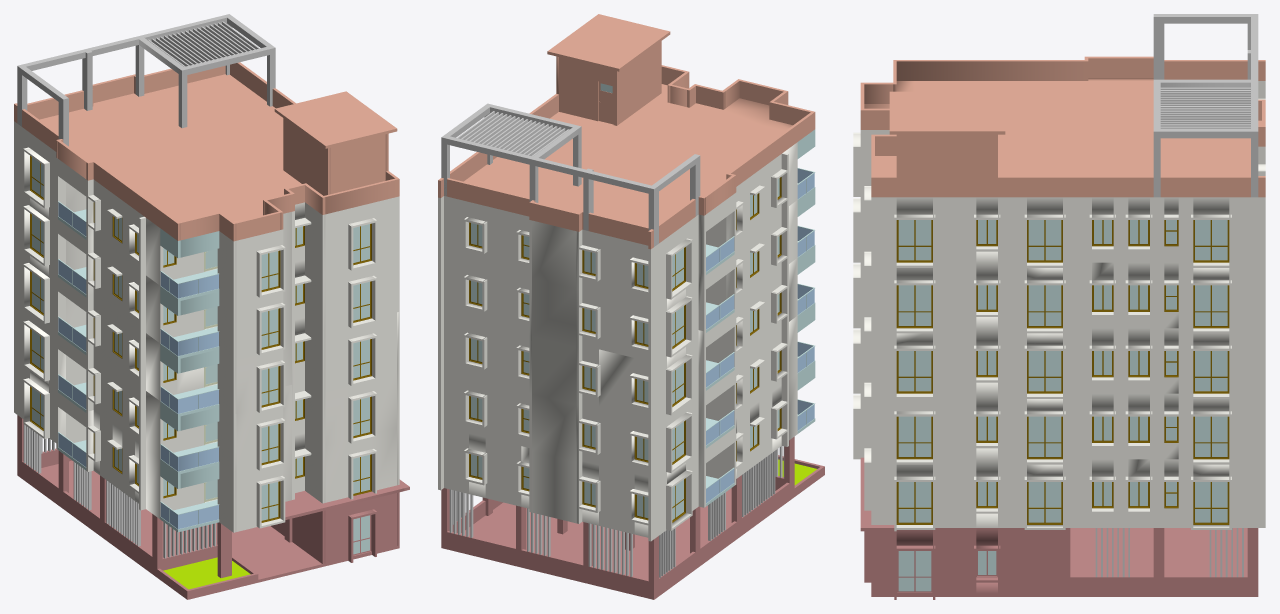
File: edificio-01.glb
3 views of the same model, side by side, from view 1: azimuth 30°, elevation 25°; view 2: azimuth 150°, elevation 25°; view 3: azimuth 270°, elevation 25° (orthographic). The views are drawn at different scales.
Visible parts, largest first — view 1: WALL, ROOF_1, GROUND_FLOOR_1_primitive0, WINDOW_primitive1, BALCONY_primitive0, LOUVER_primitive0, LOUVER_primitive1, BALCONY_primitive1, WINDOW_primitive0, GROUND_FLOOR_1_primitive1, DOOR_primitive1, GROUND_FLOOR_2_primitive1; view 2: WALL, ROOF_1, GROUND_FLOOR_1_primitive0, LOUVER_primitive0, WINDOW_primitive1, LOUVER_primitive1, WINDOW_primitive0, BALCONY_primitive1, BALCONY_primitive0, ROOF_2_primitive0; view 3: WALL, ROOF_1, WINDOW_primitive1, GROUND_FLOOR_1_primitive0, WINDOW_primitive0, LOUVER_primitive1, LOUVER_primitive0, GROUND_FLOOR_2_primitive1, GROUND_FLOOR_2_primitive0.
Boxes of the visible parts, bbox=[...] form: WALL: bbox=[14, 121, 399, 532]; ROOF_1: bbox=[14, 62, 399, 241]; GROUND_FLOOR_1_primitive0: bbox=[17, 415, 409, 599]; WINDOW_primitive1: bbox=[32, 157, 369, 520]; BALCONY_primitive0: bbox=[58, 201, 219, 532]; LOUVER_primitive0: bbox=[23, 21, 259, 558]; LOUVER_primitive1: bbox=[17, 14, 275, 146]; BALCONY_primitive1: bbox=[58, 202, 218, 529]; WINDOW_primitive0: bbox=[30, 156, 371, 522]; GROUND_FLOOR_1_primitive1: bbox=[163, 557, 250, 589]; DOOR_primitive1: bbox=[205, 249, 217, 499]; GROUND_FLOOR_2_primitive1: bbox=[353, 515, 369, 554]; WALL: bbox=[438, 142, 797, 541]; ROOF_1: bbox=[438, 14, 815, 249]; GROUND_FLOOR_1_primitive0: bbox=[441, 436, 824, 599]; LOUVER_primitive0: bbox=[449, 111, 784, 577]; WINDOW_primitive1: bbox=[471, 178, 779, 519]; LOUVER_primitive1: bbox=[441, 103, 700, 246]; WINDOW_primitive0: bbox=[469, 177, 781, 522]; BALCONY_primitive1: bbox=[706, 169, 814, 502]; BALCONY_primitive0: bbox=[706, 129, 815, 506]; ROOF_2_primitive0: bbox=[597, 81, 614, 124]; WALL: bbox=[853, 81, 1265, 531]; ROOF_1: bbox=[860, 56, 1265, 197]; WINDOW_primitive1: bbox=[898, 220, 1227, 522]; GROUND_FLOOR_1_primitive0: bbox=[860, 457, 1258, 599]; WINDOW_primitive0: bbox=[896, 220, 1229, 524]; LOUVER_primitive1: bbox=[1153, 14, 1258, 197]; LOUVER_primitive0: bbox=[1095, 87, 1250, 577]; GROUND_FLOOR_2_primitive1: bbox=[898, 551, 996, 591]; GROUND_FLOOR_2_primitive0: bbox=[896, 551, 997, 593].
Size of the model in its own units: 0.3499 by 0.6178 by 0.4925.
